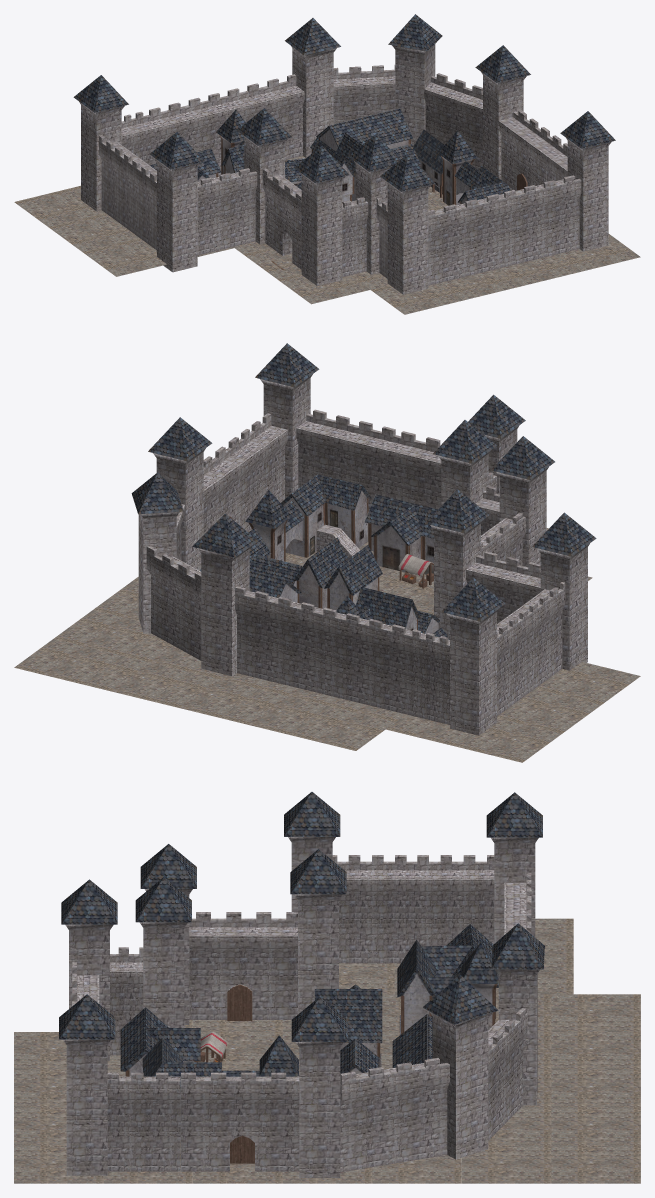
Rendered from Castle.glb.
The picture shows the model from 3 angles, top to bottom: view 1: azimuth 30°, elevation 25°; view 2: azimuth 150°, elevation 25°; view 3: azimuth 270°, elevation 25°; orthographic projection. The views are drawn at different scales.
Parts seen in each view (by area): view 1: obj10, obj1, tower, gate, house8, house3, house2, house4, wall, house6, house5, houseside3; view 2: obj10, obj1, tower, house4, house7, gate, wall, house6, house5, house3, house8, house1 (+2 smaller); view 3: obj10, obj1, gate, tower, wall, house7, house4, house5, house8, house3, house6, house1 (+1 smaller).
Part boxes in pixels (left/top/right/bottom): obj10: left=73, top=14, right=615, bottom=294; obj1: left=14, top=156, right=640, bottom=314; tower: left=475, top=45, right=530, bottom=179; gate: left=497, top=110, right=561, bottom=190; house8: left=316, top=108, right=412, bottom=151; house3: left=438, top=130, right=477, bottom=205; house2: left=413, top=129, right=444, bottom=197; house4: left=458, top=165, right=512, bottom=204; wall: left=543, top=143, right=567, bottom=181; house6: left=312, top=139, right=355, bottom=203; house5: left=336, top=133, right=361, bottom=201; houseside3: left=454, top=161, right=477, bottom=194; obj10: left=131, top=343, right=596, bottom=735; obj1: left=14, top=528, right=640, bottom=762; tower: left=148, top=417, right=212, bottom=570; house4: left=281, top=474, right=371, bottom=557; house7: left=364, top=494, right=437, bottom=572; gate: left=202, top=437, right=255, bottom=534; wall: left=239, top=413, right=288, bottom=510; house6: left=324, top=545, right=382, bottom=610; house5: left=293, top=537, right=348, bottom=608; house3: left=245, top=490, right=291, bottom=561; house8: left=200, top=568, right=301, bottom=602; house1: left=249, top=554, right=302, bottom=587; obj10: left=59, top=792, right=544, bottom=1175; obj1: left=14, top=918, right=640, bottom=1183; gate: left=181, top=1072, right=299, bottom=1171; tower: left=291, top=997, right=347, bottom=1177; wall: left=107, top=1072, right=180, bottom=1171; house7: left=120, top=1007, right=200, bottom=1076; house4: left=142, top=1037, right=221, bottom=1139; house5: left=331, top=1005, right=382, bottom=1066; house8: left=392, top=1014, right=432, bottom=1067; house3: left=259, top=1035, right=298, bottom=1076; house6: left=314, top=989, right=382, bottom=1066; house1: left=340, top=1038, right=379, bottom=1073.
Bounding box in the file's own units: 70 × 22.03 × 70.
1 material, 1 textured.
